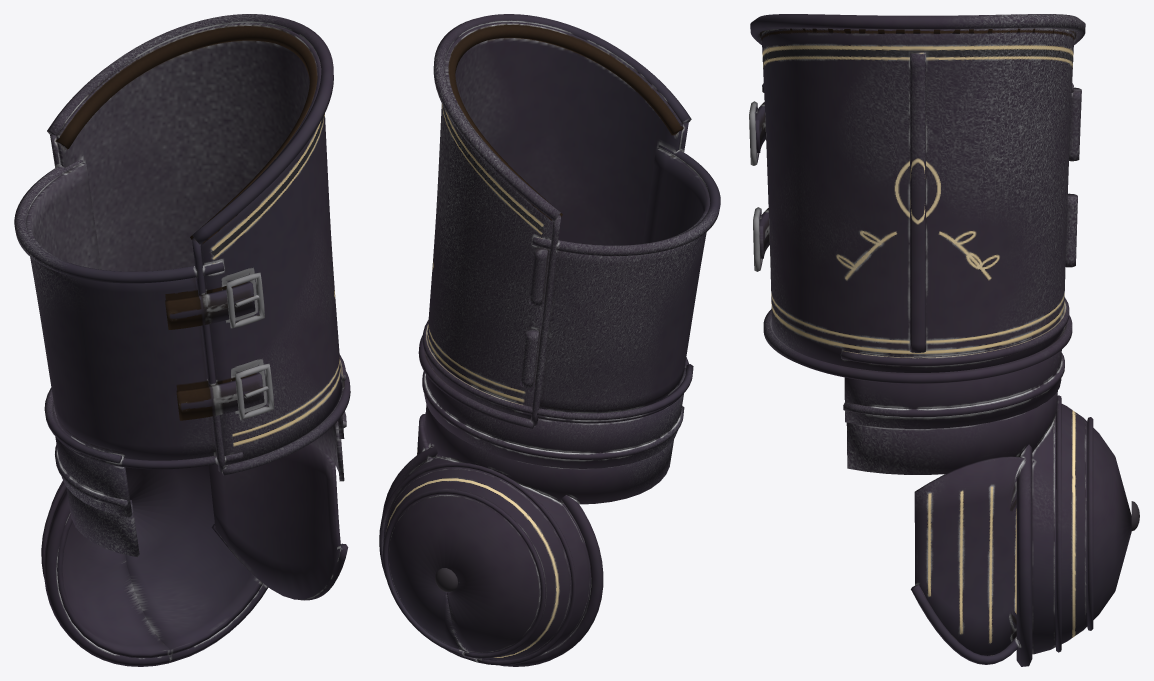
The model's file is SM_ObsidianSovereign_UpperArms_L.fbx.
3 views of the same model, side by side, from view 1: azimuth 30°, elevation 25°; view 2: azimuth 150°, elevation 25°; view 3: azimuth 270°, elevation 25° (orthographic). The views are drawn at different scales.
Parts seen in each view (by area): view 1: SM_ObsidianSovereign_UpperArms_L; view 2: SM_ObsidianSovereign_UpperArms_L; view 3: SM_ObsidianSovereign_UpperArms_L.
Part boxes in pixels (x1,y1,x2,y2): SM_ObsidianSovereign_UpperArms_L: (14,14,350,666); SM_ObsidianSovereign_UpperArms_L: (379,14,720,666); SM_ObsidianSovereign_UpperArms_L: (749,14,1139,666).
Size of the model in its own units: 13.76 by 14.01 by 27.
